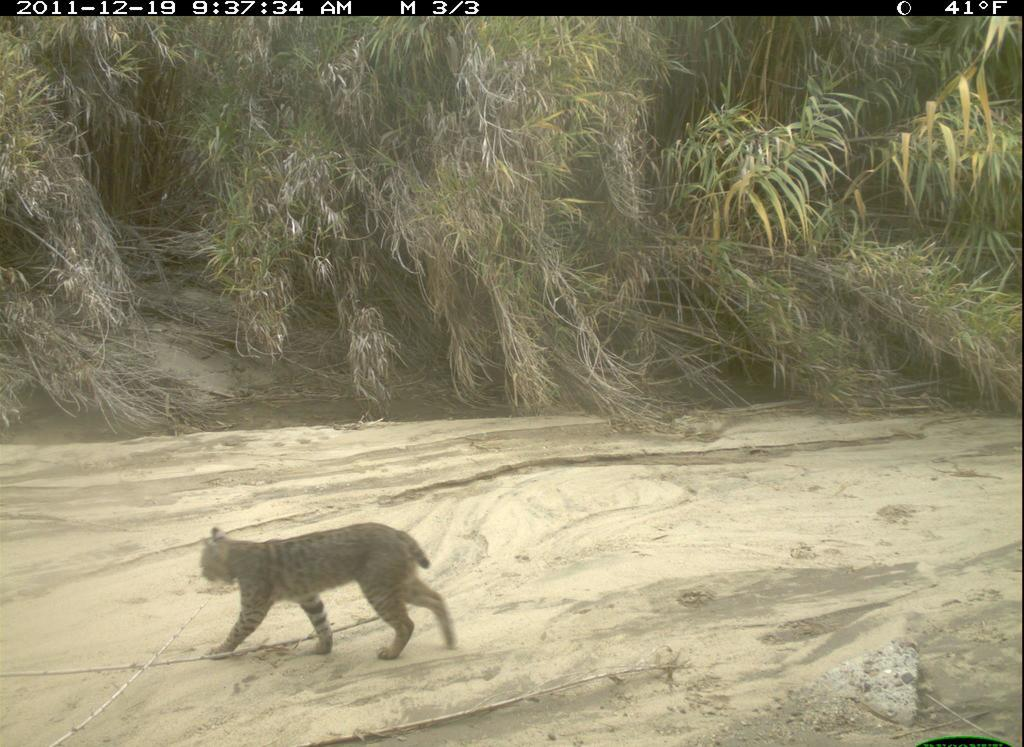bobcat: (195, 511, 466, 671)
